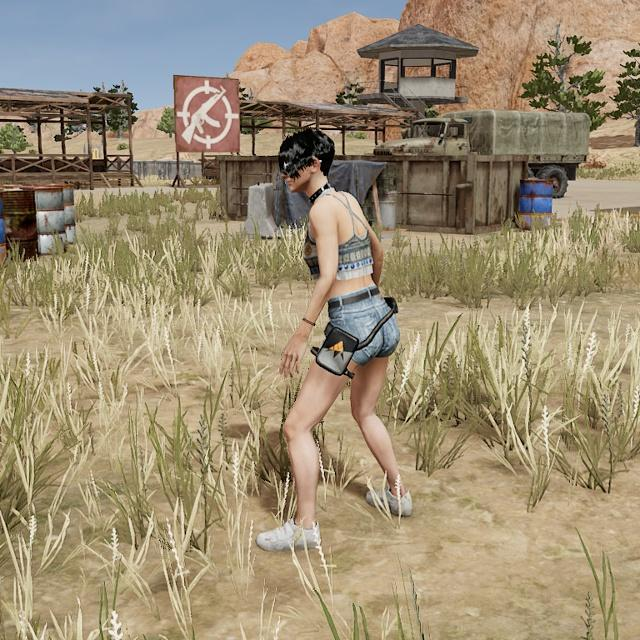head: (275, 126, 337, 196)
people: (255, 125, 415, 551)
